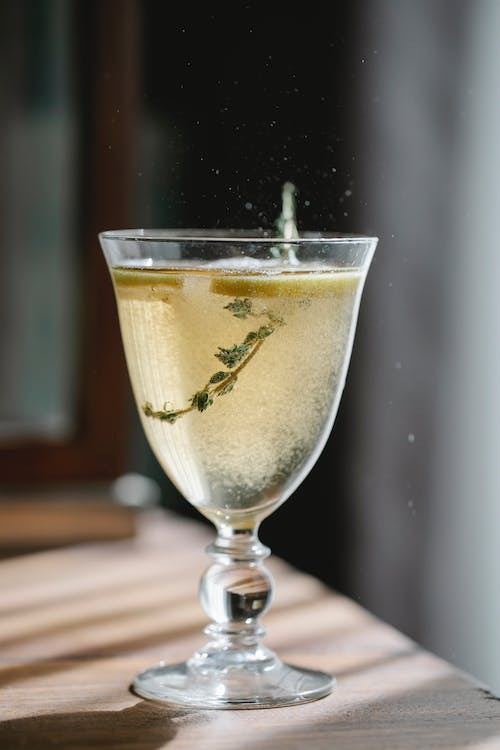alcohol: (96, 224, 380, 712)
